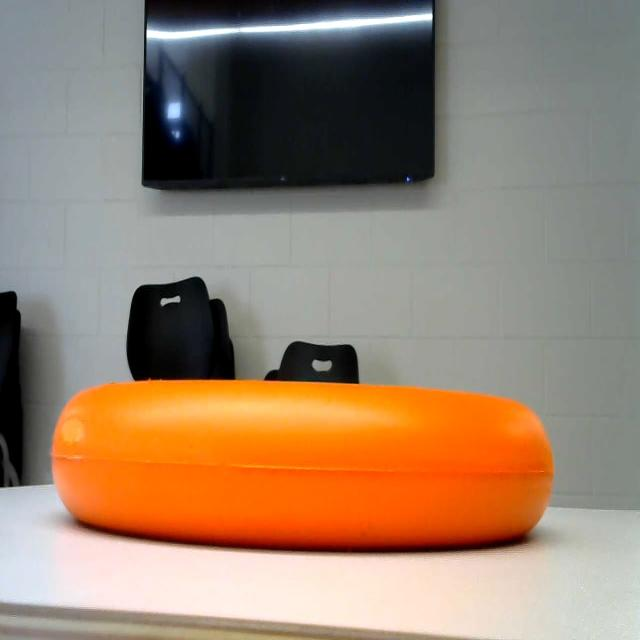note: (44, 371, 560, 579)
